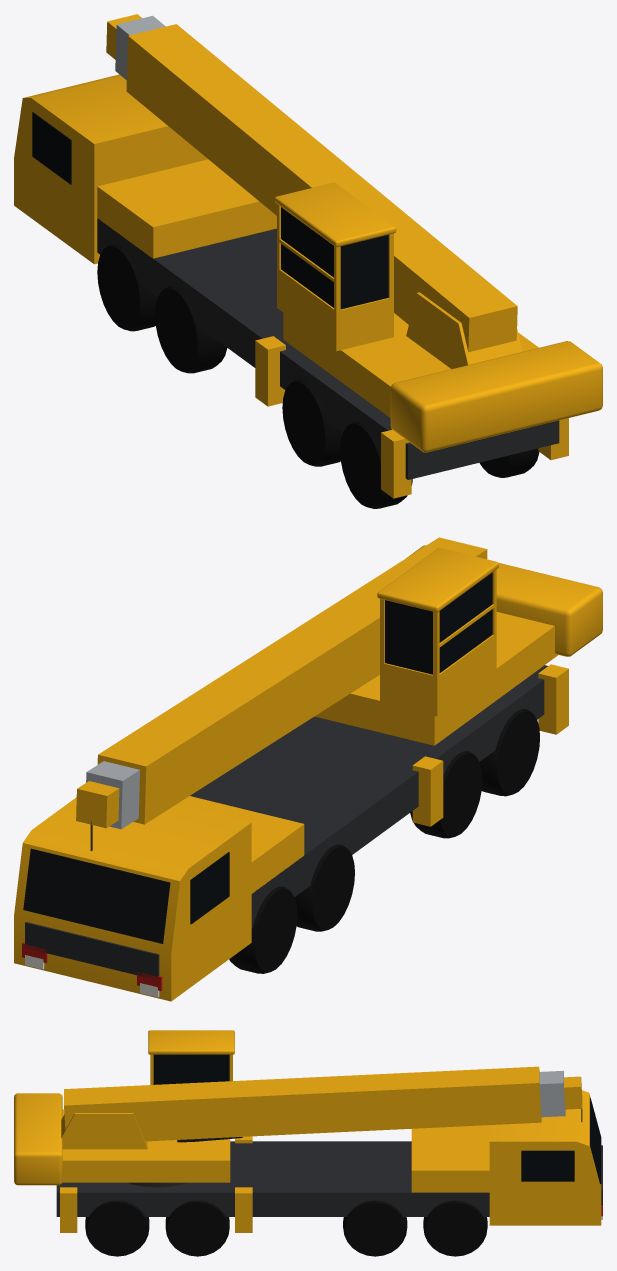
File: plant.lifting.mobile_crane_4_axle_stowed.glb
3 renders of one model, top to bottom at view 1: azimuth 30°, elevation 25°; view 2: azimuth 150°, elevation 25°; view 3: azimuth 270°, elevation 25°, orthographic. The views are drawn at different scales.
Parts seen in each view (by area): view 1: upper__plant_yellow, boom__plant_yellow, carrier__plant_yellow, carrier__steel_dark, wheels__rubber, upper__glass_dark, outriggers__plant_yellow, carrier__glass_dark, boom__steel_galvanised; view 2: boom__plant_yellow, carrier__steel_dark, carrier__plant_yellow, upper__plant_yellow, wheels__rubber, carrier__glass_dark, upper__glass_dark, outriggers__plant_yellow, boom__steel_galvanised, carrier__hazard_red; view 3: boom__plant_yellow, carrier__steel_dark, upper__plant_yellow, carrier__plant_yellow, wheels__rubber, carrier__glass_dark, upper__glass_dark, outriggers__plant_yellow, boom__steel_galvanised.
Part boxes in pixels (x1,y1,x2,y2): upper__plant_yellow: (274, 182, 602, 452); boom__plant_yellow: (106, 14, 517, 352); carrier__plant_yellow: (14, 74, 276, 264); carrier__steel_dark: (97, 218, 559, 479); wheels__rubber: (97, 244, 539, 508); upper__glass_dark: (281, 207, 388, 309); outriggers__plant_yellow: (255, 336, 568, 498); carrier__glass_dark: (32, 112, 71, 184); boom__steel_galvanised: (115, 15, 165, 80); boom__plant_yellow: (76, 537, 487, 828); carrier__steel_dark: (25, 665, 547, 979); carrier__plant_yellow: (14, 796, 304, 1001); upper__plant_yellow: (314, 545, 602, 745); wheels__rubber: (229, 709, 539, 973); carrier__glass_dark: (23, 848, 229, 943); upper__glass_dark: (385, 572, 492, 674); outriggers__plant_yellow: (412, 664, 568, 826); boom__steel_galvanised: (86, 761, 139, 829); carrier__hazard_red: (22, 942, 162, 990); boom__plant_yellow: (64, 1066, 582, 1141); carrier__steel_dark: (56, 1141, 602, 1216); upper__plant_yellow: (14, 1030, 234, 1185); carrier__plant_yellow: (411, 1090, 601, 1225); wheels__rubber: (85, 1200, 487, 1256); carrier__glass_dark: (521, 1098, 601, 1183); upper__glass_dark: (153, 1054, 229, 1084); outriggers__plant_yellow: (60, 1136, 252, 1232); boom__steel_galvanised: (539, 1070, 565, 1117).
Size of the model in its own units: 3 by 3.95 by 12.11.
